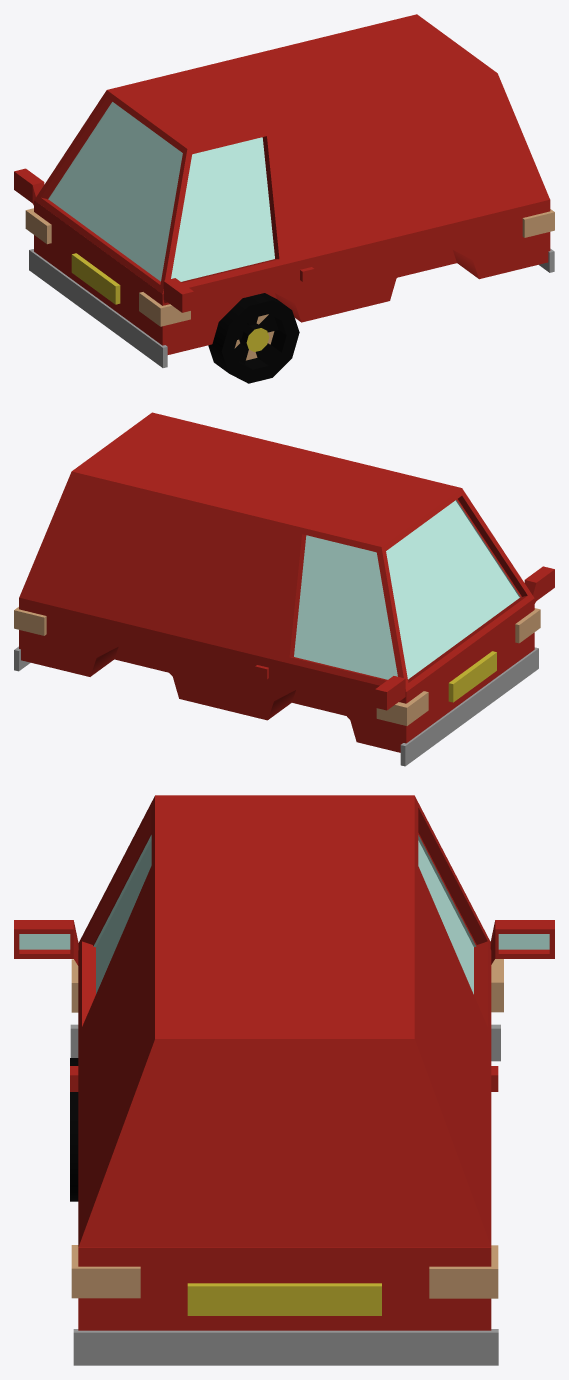
The model's file is Car002.fbx.
3 renders of one model, top to bottom at view 1: azimuth 30°, elevation 25°; view 2: azimuth 150°, elevation 25°; view 3: azimuth 270°, elevation 25°, orthographic. The views are drawn at different scales.
Visible parts, largest first — view 1: Box056, Cylinder054; view 2: Box056; view 3: Box056, Cylinder054.
Part boxes in pixels (left/top/right/bottom): Box056: left=14, top=14, right=554, bottom=367; Cylinder054: left=208, top=293, right=299, bottom=383; Box056: left=14, top=412, right=554, bottom=766; Box056: left=14, top=795, right=554, bottom=1365; Cylinder054: left=70, top=1058, right=78, bottom=1201.
Bounding box in the file's own units: 103 × 55.52 × 75.62.
8 materials, 8 textured.
